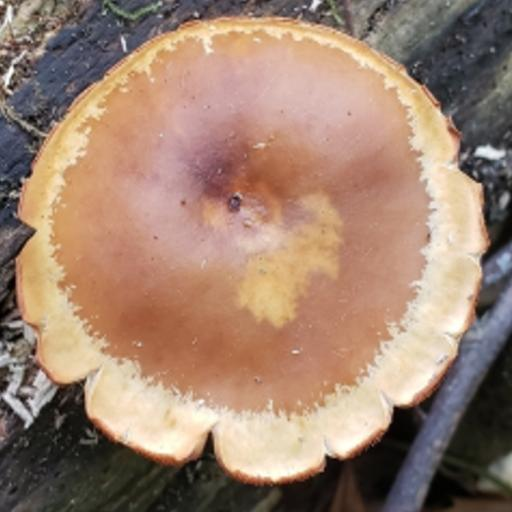mushroom: (19, 18, 491, 492)
